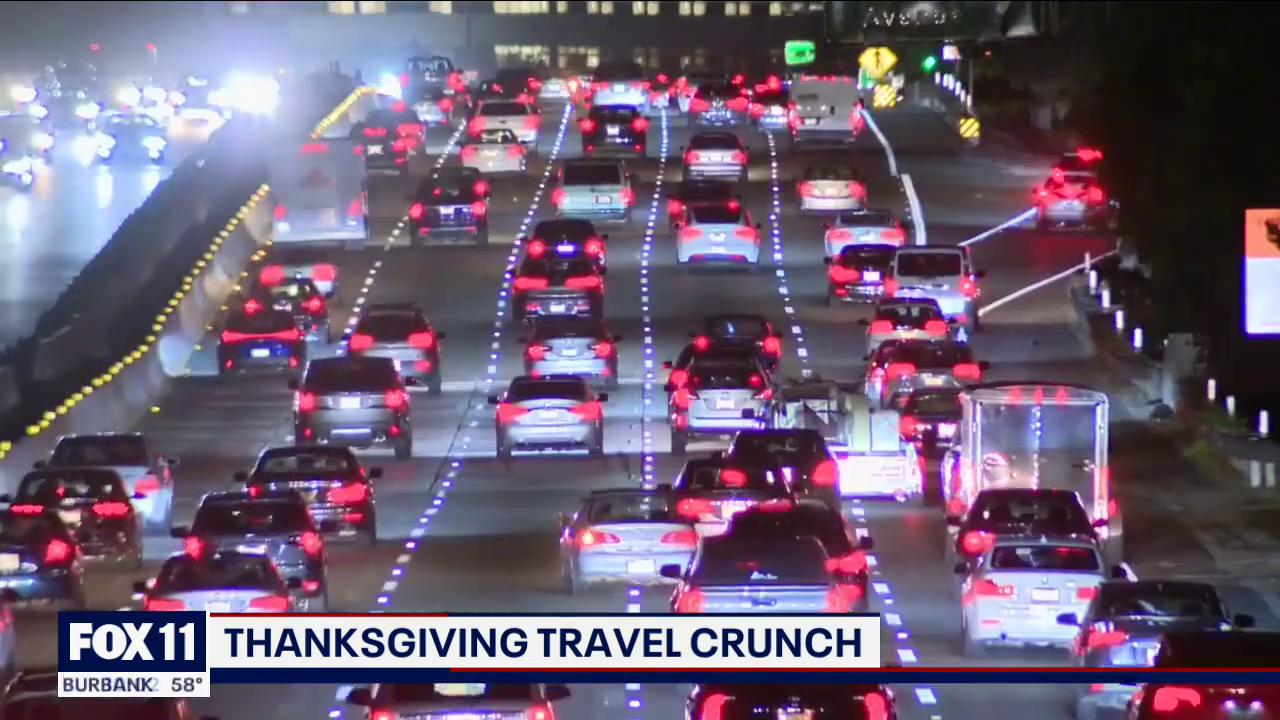car: (287, 356, 410, 447), (556, 158, 642, 224), (500, 404, 600, 449), (350, 311, 437, 346), (681, 135, 749, 177)
